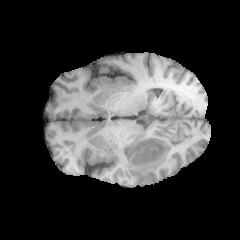glioma: (123, 137, 174, 181)
